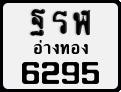letters: (70, 9, 92, 36), (81, 61, 102, 85), (29, 8, 45, 38), (21, 61, 40, 85), (41, 61, 60, 85), (61, 61, 80, 85), (52, 9, 68, 36)
province: (32, 39, 89, 56)
